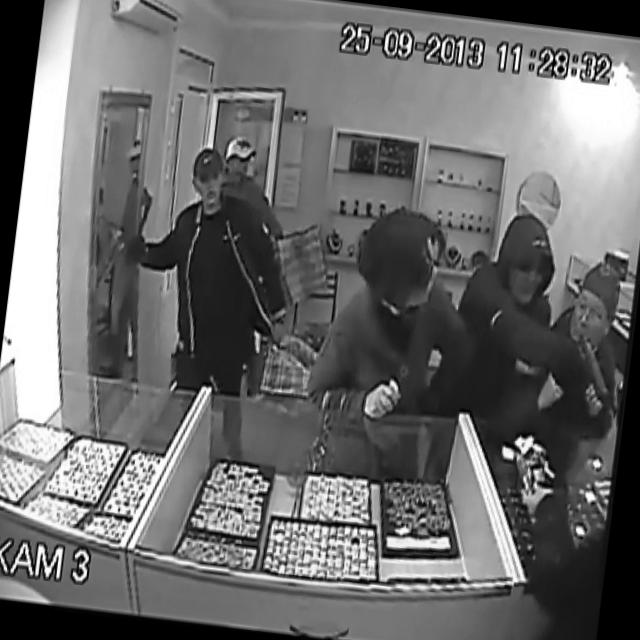gun: (532, 311, 614, 408)
person: (332, 206, 474, 404), (156, 146, 268, 276), (554, 260, 640, 374), (220, 136, 275, 198)
person with a gun: (438, 208, 589, 438)
